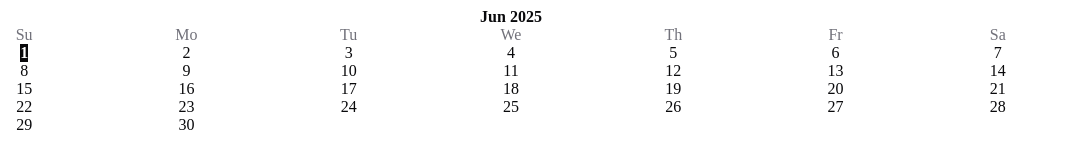
Test: TtCalendar › opens month picker then year picker on title clicks
What coordinates should you click on to do the following:
click the text with class "tt-calendar__title"
I would click on:
 (511, 17)
Its box is [480,8,542,26].
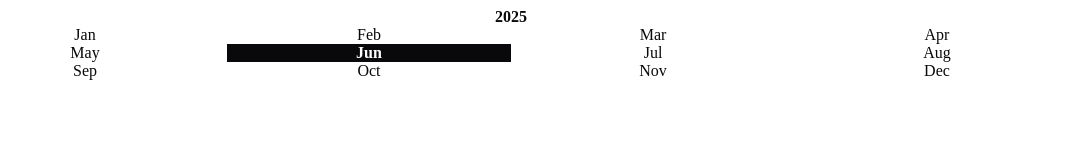
Check: the element with class "tt-calendar__picker" is shown, box [70,26,951,79]
Check: the number of elements with class "tt-calendar__picker-cell" is 12
What coordinates should you click on to do the following:
click the text with class "tt-calendar__title"
I would click on:
 (511, 17)
Its box is [495,8,527,26].
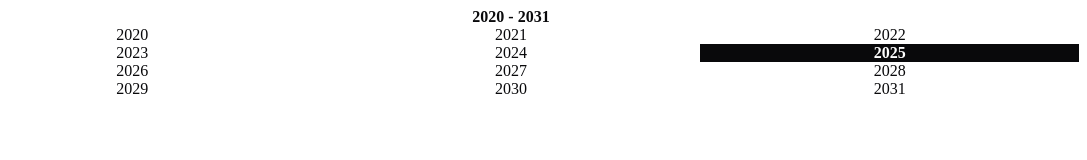
Check: the number of elements with class "tt-calendar__picker-cell" is 12
Check: the element with class "tt-calendar__picker-grid--year" is shown, box [116,26,1079,97]
